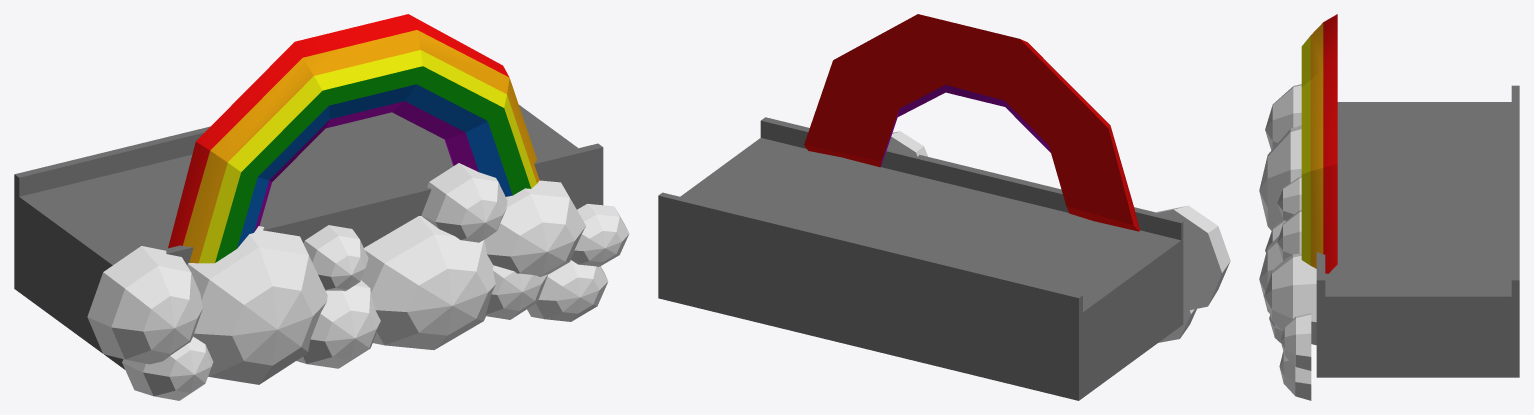
File: rainbowplattform.fbx
3 views of the same model, side by side, from view 1: azimuth 30°, elevation 25°; view 2: azimuth 150°, elevation 25°; view 3: azimuth 270°, elevation 25° (orthographic). The views are drawn at different scales.
Parts seen in each view (by area): view 1: pCube3, pTorus1, pSphere38, pSphere37; view 2: pCube3, pTorus1, pSphere38, pSphere37; view 3: pCube3, pTorus1, pSphere37, pSphere38.
Boxes of the visible parts, x1,y1,x2,y2 form: pCube3: (14,105,603,369); pTorus1: (168,14,539,263); pSphere38: (87,225,380,400); pSphere37: (361,163,629,349); pCube3: (658,117,1183,400); pTorus1: (804,14,1139,231); pSphere38: (1152,205,1230,342); pSphere37: (887,131,927,156); pCube3: (1316,85,1519,377); pTorus1: (1301,14,1337,273); pSphere37: (1259,210,1316,400); pSphere38: (1259,84,1301,252).
Bounding box in the file's own units: 5.83 × 3.44 × 2.91.
